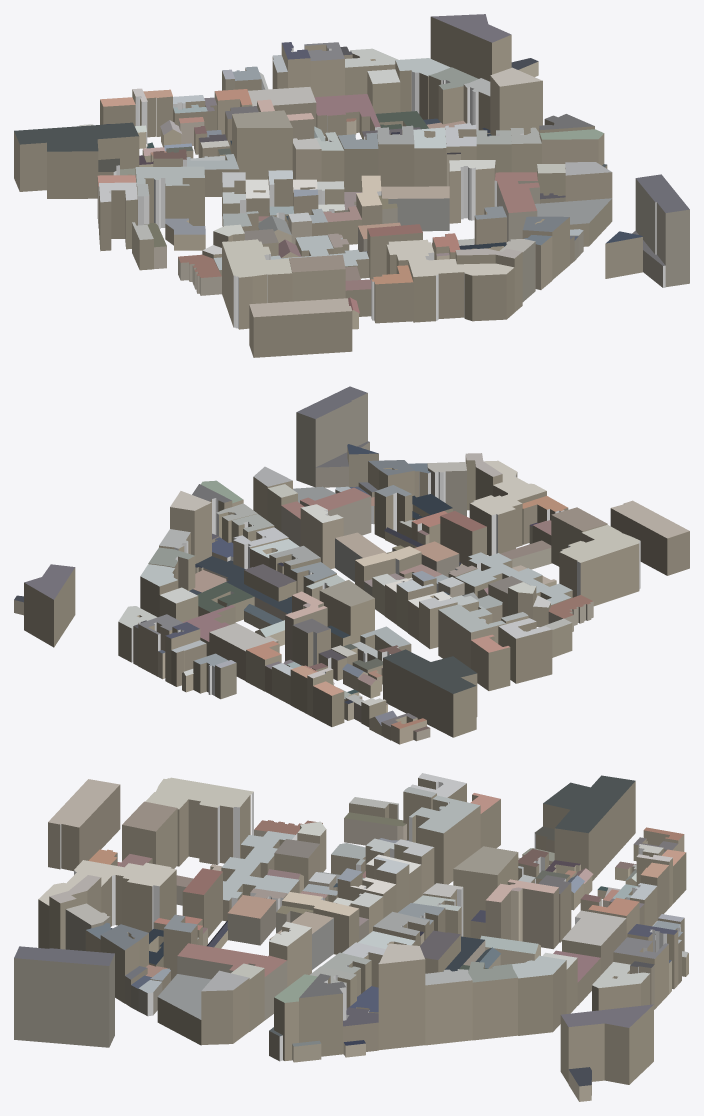
3 renders of one model, top to bottom at view 1: azimuth 30°, elevation 25°; view 2: azimuth 150°, elevation 25°; view 3: azimuth 270°, elevation 25°, orthographic. The views are drawn at different scales.
Visible parts, largest first — view 1: tuile; view 2: tuile; view 3: tuile.
Boxes of the visible parts, x1,y1,x2,y2 form: tuile: [14, 14, 689, 357]; tuile: [14, 386, 689, 744]; tuile: [14, 773, 688, 1101].
Size of the model in its own units: 266 by 41.44 by 277.
